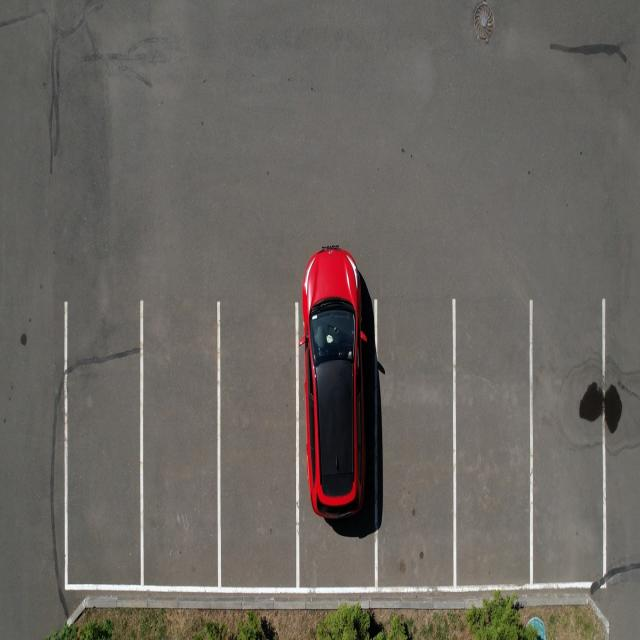space-empty: (218, 297, 300, 588), (139, 298, 221, 588), (452, 298, 533, 586), (378, 288, 456, 587), (63, 302, 144, 588), (528, 298, 607, 586)
space-occupied: (296, 274, 376, 588)
